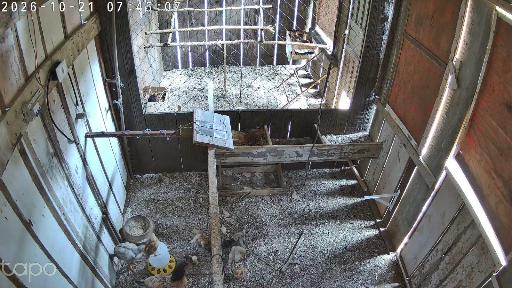frango: (114, 242, 146, 276)
galinha: (136, 261, 189, 288), (231, 128, 264, 144), (289, 29, 311, 44), (146, 94, 158, 101)
pintinho: (142, 232, 160, 259), (228, 245, 247, 263), (189, 229, 208, 247), (185, 252, 203, 266), (232, 266, 246, 278)
